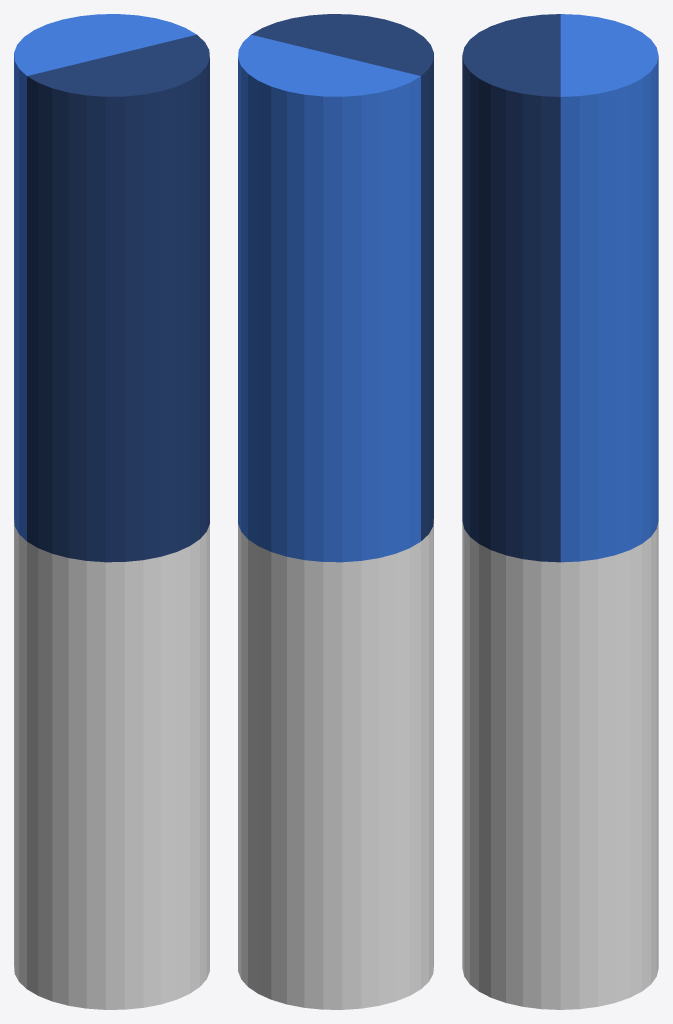
Rendered from catheter_tip.glb.
The picture shows the model from 3 angles, left to right: view 1: azimuth 30°, elevation 25°; view 2: azimuth 150°, elevation 25°; view 3: azimuth 270°, elevation 25°; orthographic projection.
Parts seen in each view (by area): view 1: Cylinder; view 2: Cylinder; view 3: Cylinder.
Boxes of the visible parts, x1,y1,x2,y2 form: Cylinder: (14, 14, 209, 1009); Cylinder: (238, 14, 433, 1009); Cylinder: (462, 14, 658, 1009).
Bounding box in the file's own units: 0.0015 × 0.0077 × 0.0015.
